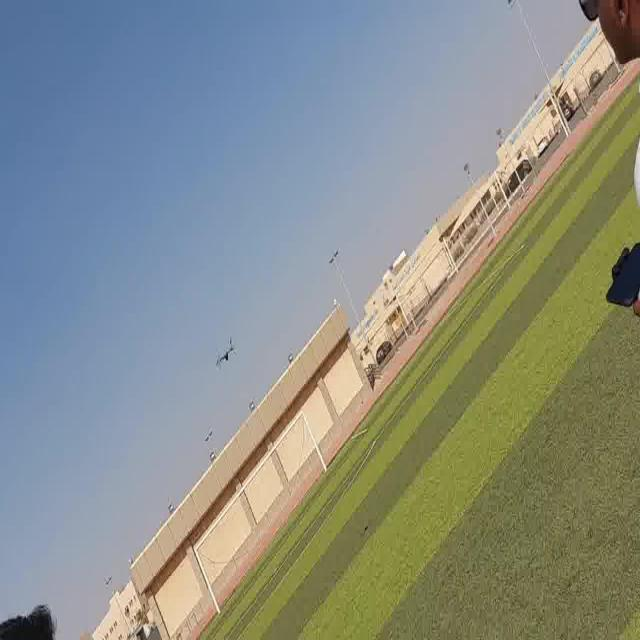drone: (211, 330, 237, 366)
